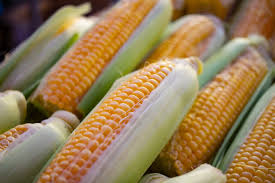milho: (45, 21, 273, 170)
